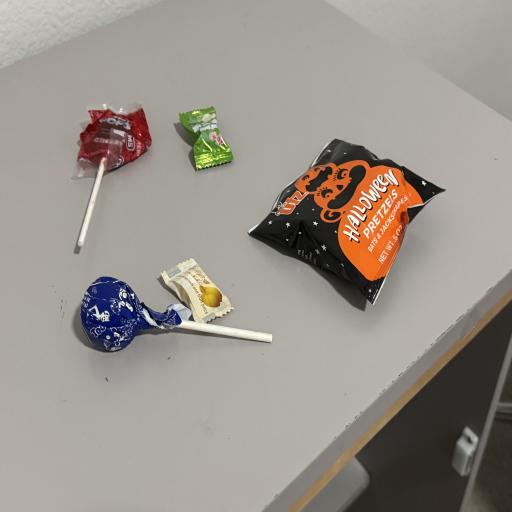chocolate: (249, 140, 443, 303), (80, 277, 272, 352), (73, 104, 151, 178), (162, 259, 233, 323), (179, 107, 233, 169)
